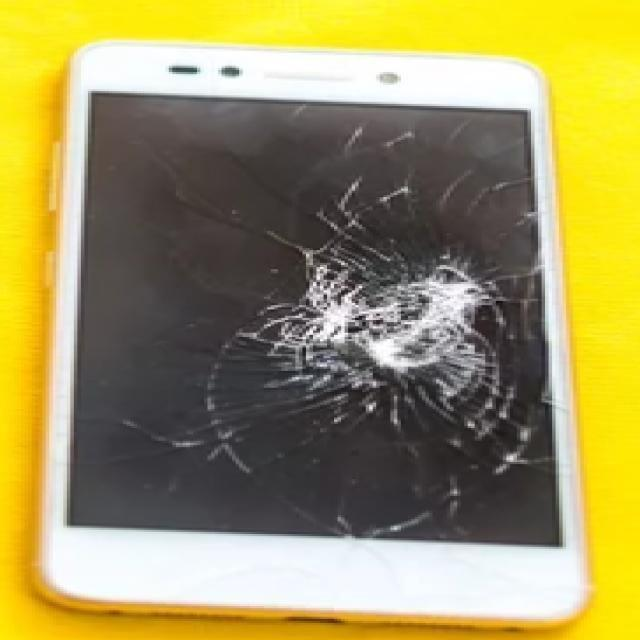Crack: (259, 202, 553, 435)
